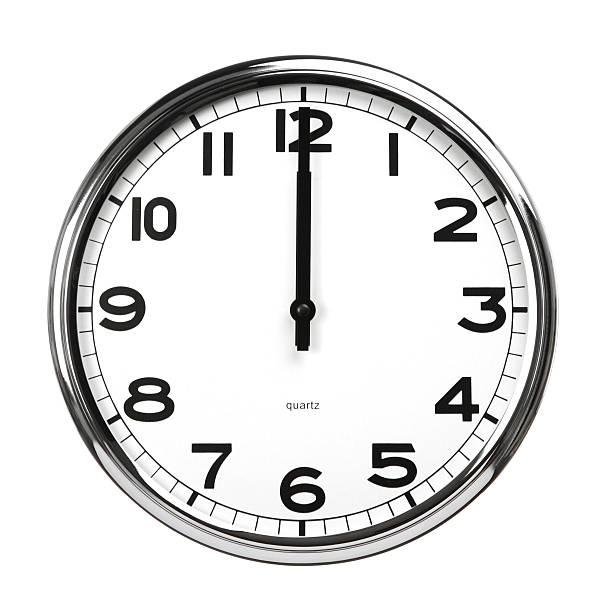clock: (51, 54, 557, 563)
